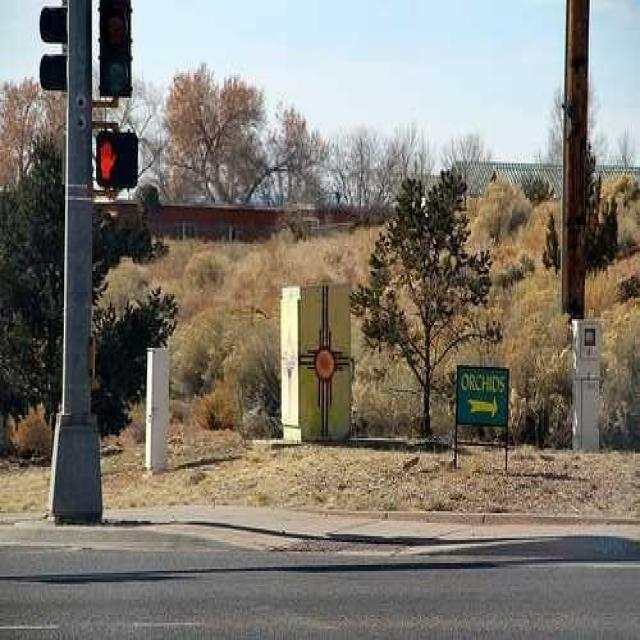Traffic Light -Red-: (95, 0, 137, 98)
